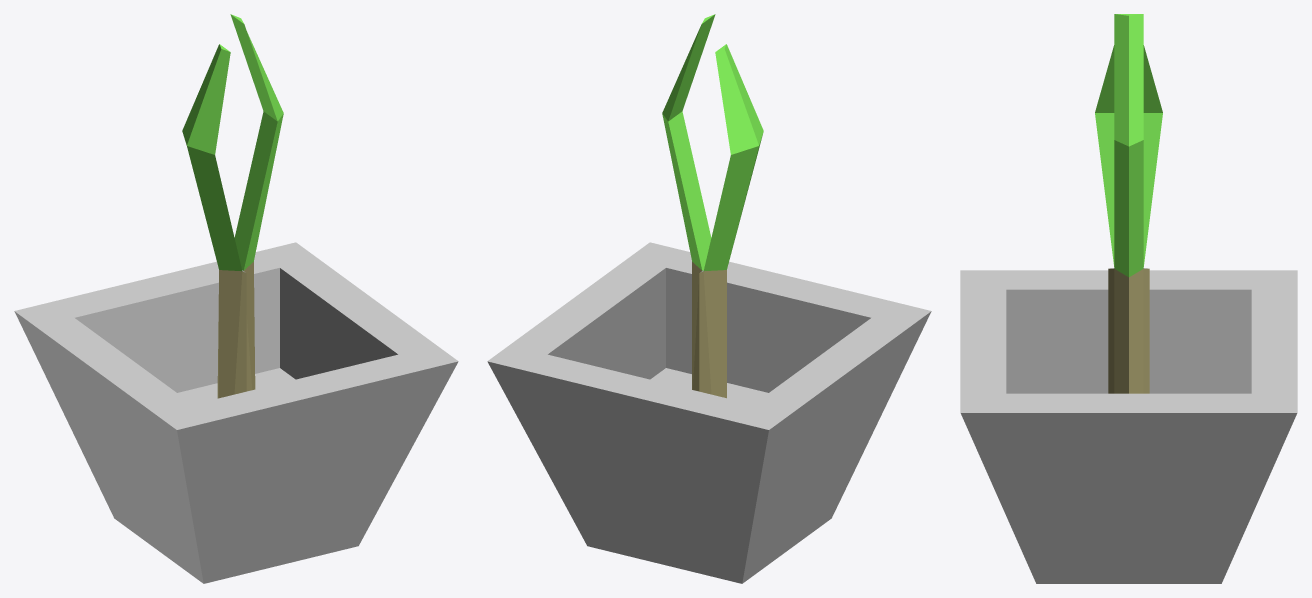
File: ueki.fbx
3 renders of one model, left to right at view 1: azimuth 30°, elevation 25°; view 2: azimuth 150°, elevation 25°; view 3: azimuth 270°, elevation 25°, orthographic. The views are drawn at different scales.
Parts seen in each view (by area): view 1: ueki; view 2: ueki; view 3: ueki.
Part boxes in pixels (x1,y1,x2,y2): ueki: [14, 14, 458, 583]; ueki: [487, 14, 931, 583]; ueki: [960, 14, 1297, 583].
Size of the model in its own units: 21.06 by 36.64 by 21.06.
